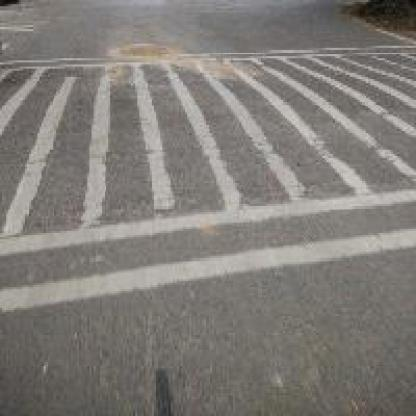Speed Bump: (0, 35, 414, 320)
